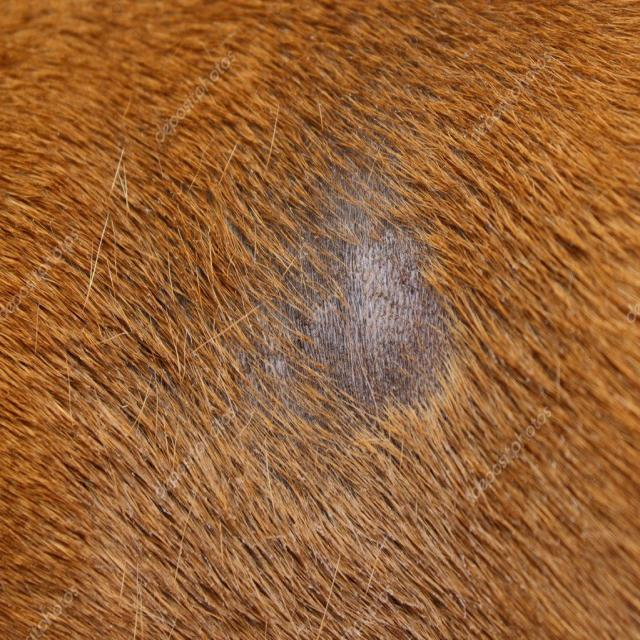fungal infection: (244, 169, 475, 419)
